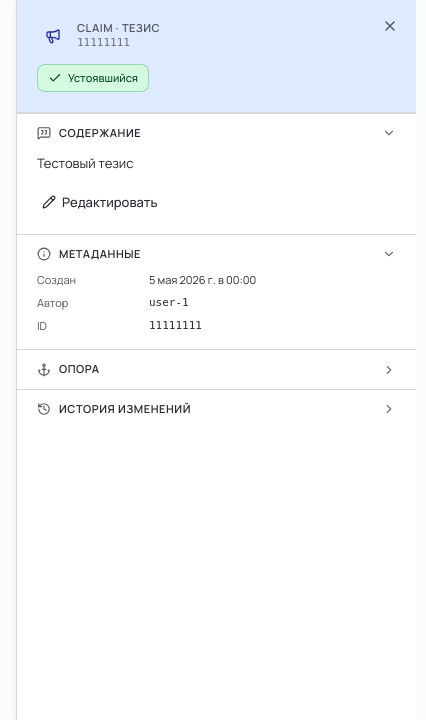
Scenario: NodeDetailsPanel › первое открытие истории вызывает GET и рендерит список
This screenshot has width=426, height=720.
Click the button "История изменений".
click(125, 409)  # box [17, 390, 416, 429]
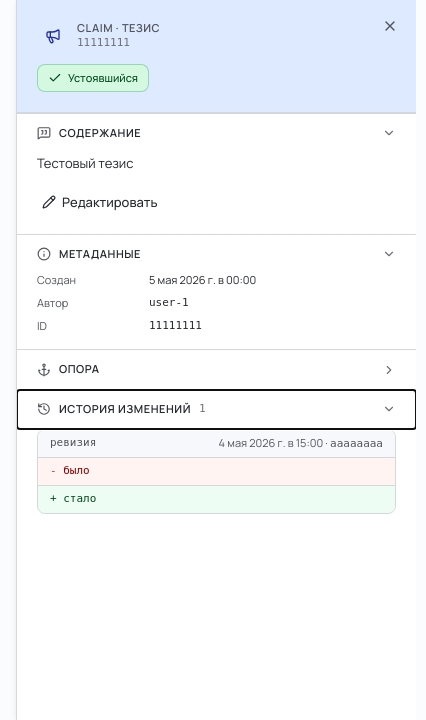
Now the text "было" is shown, box [63, 464, 90, 477]
Now the text "стало" is shown, box [63, 492, 96, 505]
